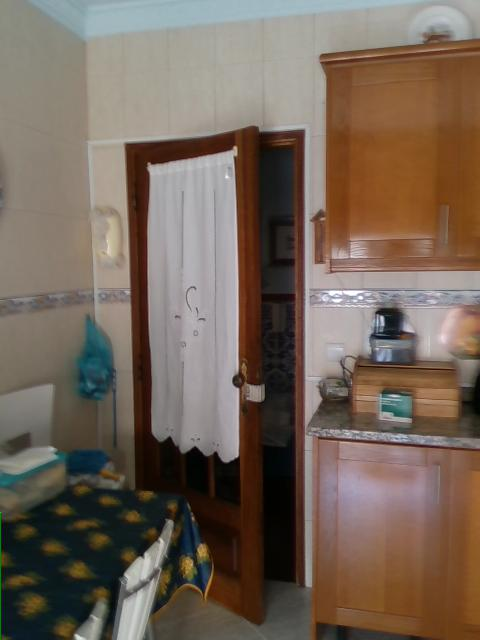semi_door: (123, 123, 306, 633)
